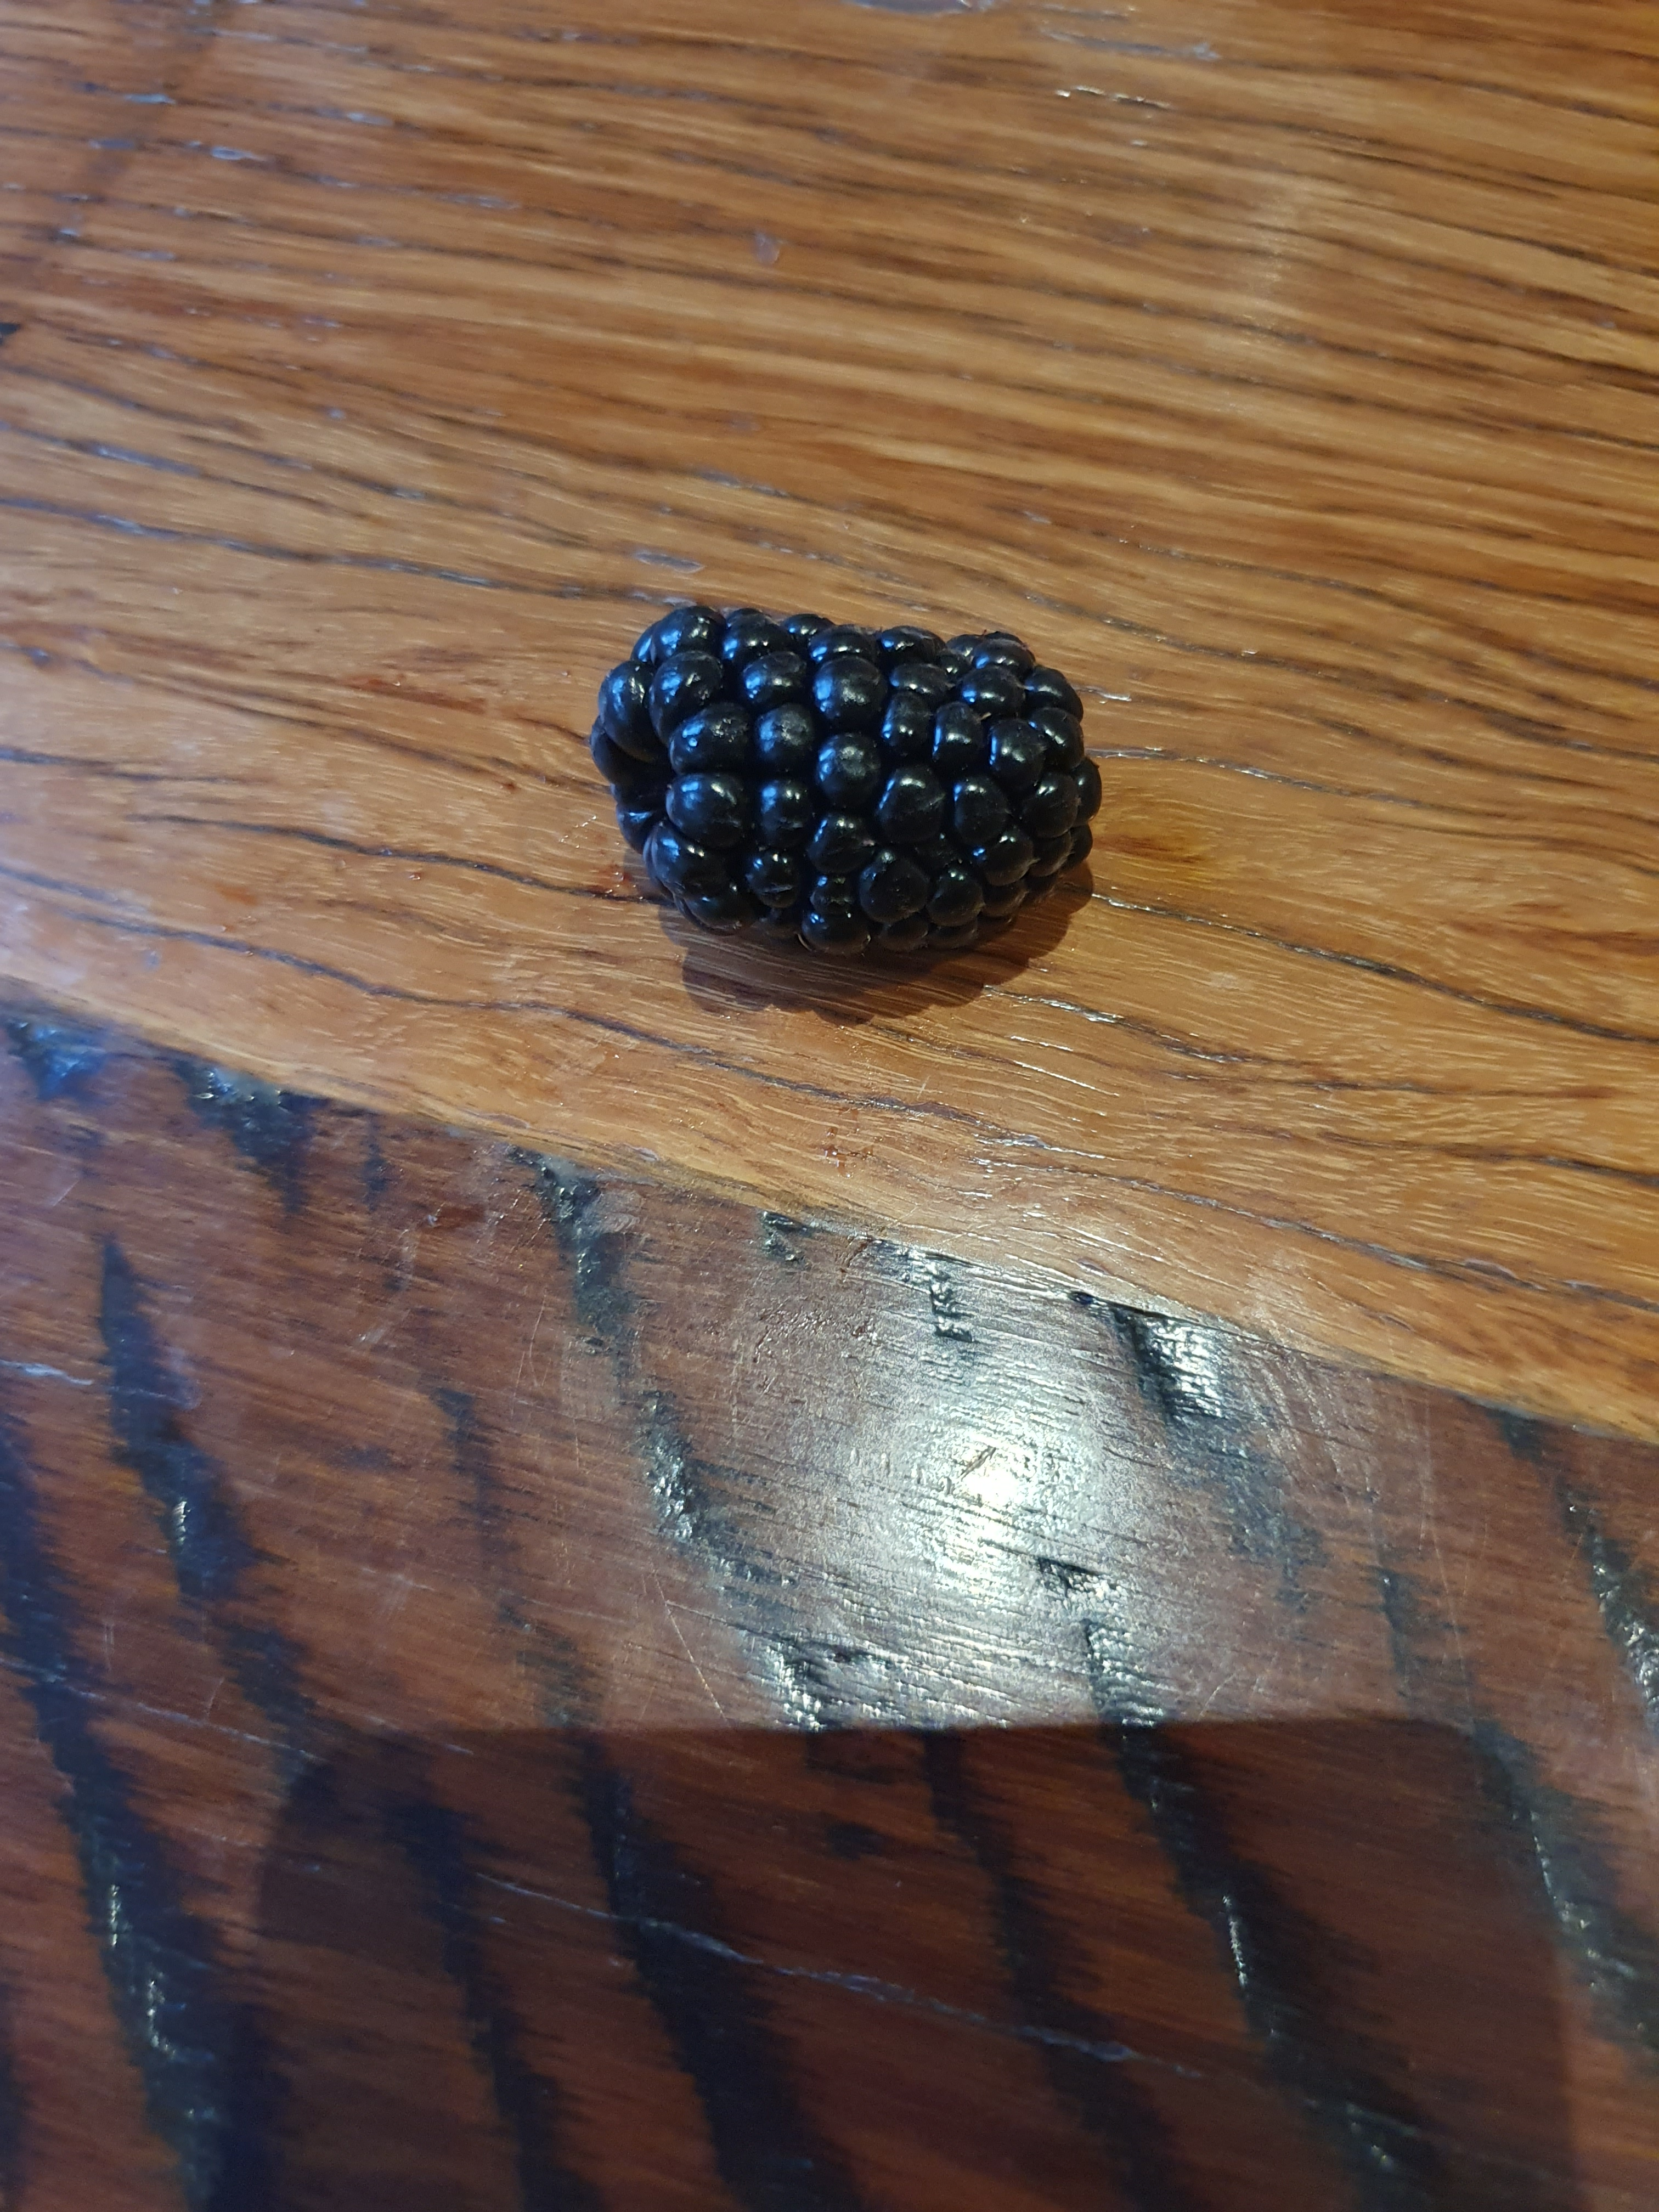blackberry: (542, 571, 1110, 984)
